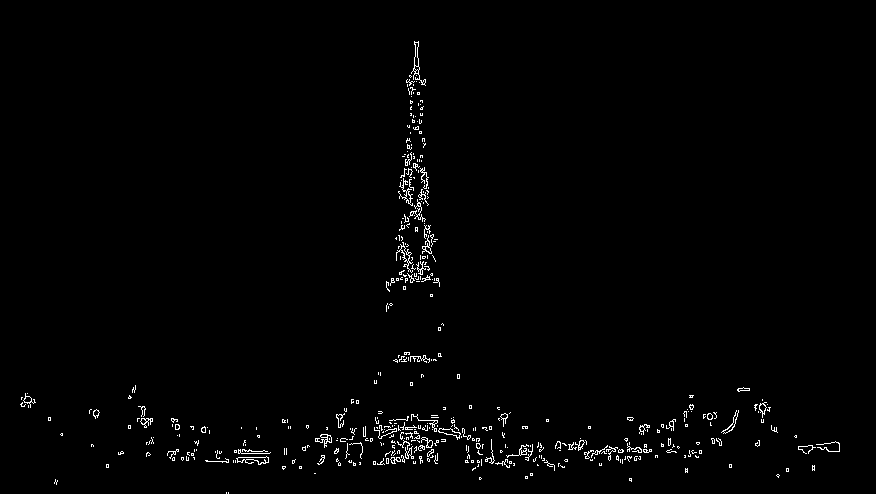eiffel tower: (352, 36, 496, 447)
